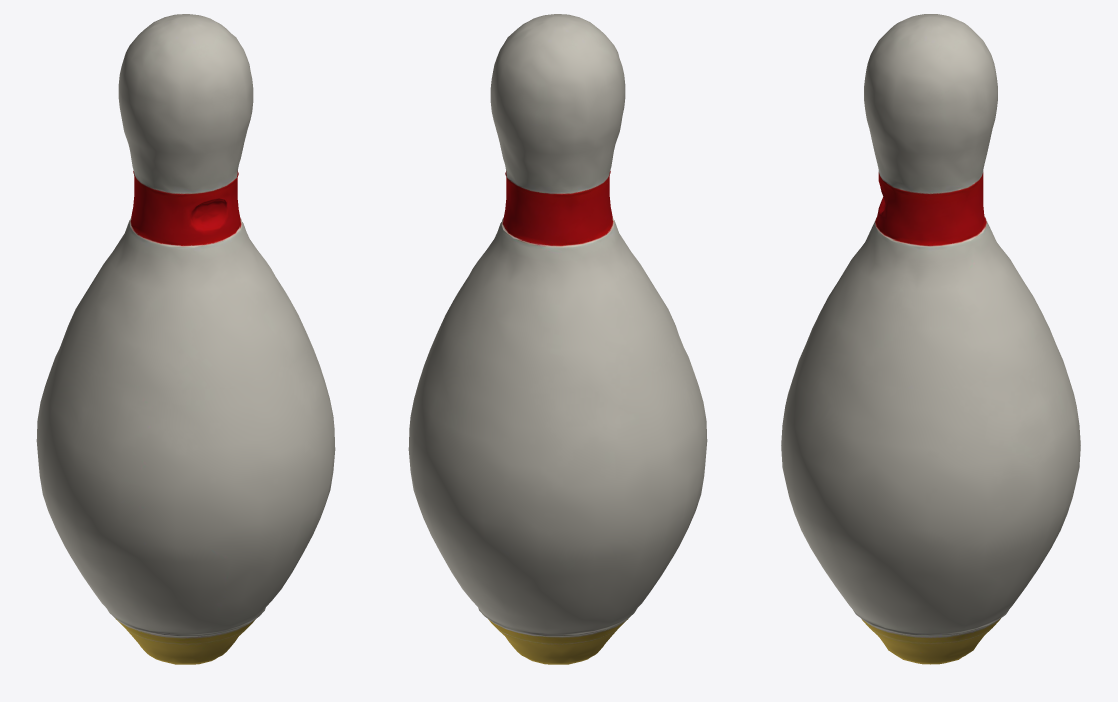
Rendered from selected.glb.
The picture shows the model from 3 angles, left to right: view 1: azimuth 30°, elevation 25°; view 2: azimuth 150°, elevation 25°; view 3: azimuth 270°, elevation 25°; orthographic projection.
Parts seen in each view (by area): view 1: tripo_node_485624e3-9653-40a5-8981-015d2db7f181; view 2: tripo_node_485624e3-9653-40a5-8981-015d2db7f181; view 3: tripo_node_485624e3-9653-40a5-8981-015d2db7f181.
Part boxes in pixels (x1,y1,x2,y2): tripo_node_485624e3-9653-40a5-8981-015d2db7f181: (36,14,335,664); tripo_node_485624e3-9653-40a5-8981-015d2db7f181: (408,14,707,664); tripo_node_485624e3-9653-40a5-8981-015d2db7f181: (781,14,1080,664).
Bounding box in the file's own units: 0.498 × 0.998 × 0.498.
1 material, 1 textured.
